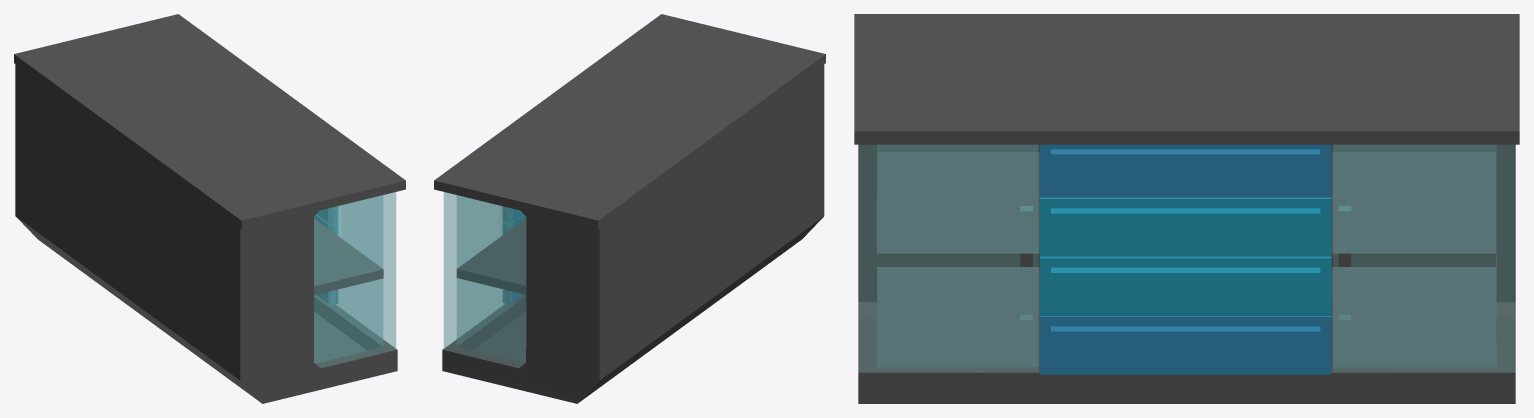
The model's file is dresser_tier14.fbx.
The picture shows the model from 3 angles, left to right: view 1: azimuth 30°, elevation 25°; view 2: azimuth 150°, elevation 25°; view 3: azimuth 270°, elevation 25°; orthographic projection. The views are drawn at different scales.
Visible parts, largest first — view 1: Cube.022, Cube.021, Cube.007, Cube.006; view 2: Cube.022, Cube.021, Cube.004, Cube.006; view 3: Cube.021, Cube.022, Cube.004, Cube.007, Cube.006, Cube.001, Cube.002, Cube.003, Cube.
Boxes of the visible parts, left/top/right/bottom form: Cube.022: left=15, top=64, right=397, bottom=403; Cube.021: left=14, top=14, right=405, bottom=229; Cube.007: left=314, top=192, right=396, bottom=367; Cube.006: left=22, top=151, right=383, bottom=314; Cube.022: left=442, top=64, right=824, bottom=403; Cube.021: left=434, top=14, right=825, bottom=229; Cube.004: left=443, top=192, right=526, bottom=367; Cube.006: left=457, top=151, right=818, bottom=313; Cube.021: left=854, top=14, right=1519, bottom=144; Cube.022: left=858, top=144, right=1515, bottom=403; Cube.004: left=1333, top=144, right=1514, bottom=372; Cube.007: left=859, top=144, right=1038, bottom=372; Cube.006: left=876, top=152, right=1495, bottom=266; Cube.001: left=1039, top=197, right=1331, bottom=256; Cube.002: left=1039, top=256, right=1331, bottom=315; Cube.003: left=1039, top=316, right=1331, bottom=374; Cube: left=1039, top=144, right=1331, bottom=197.
Bounding box in the file's own units: 91.67 × 101 × 220.
